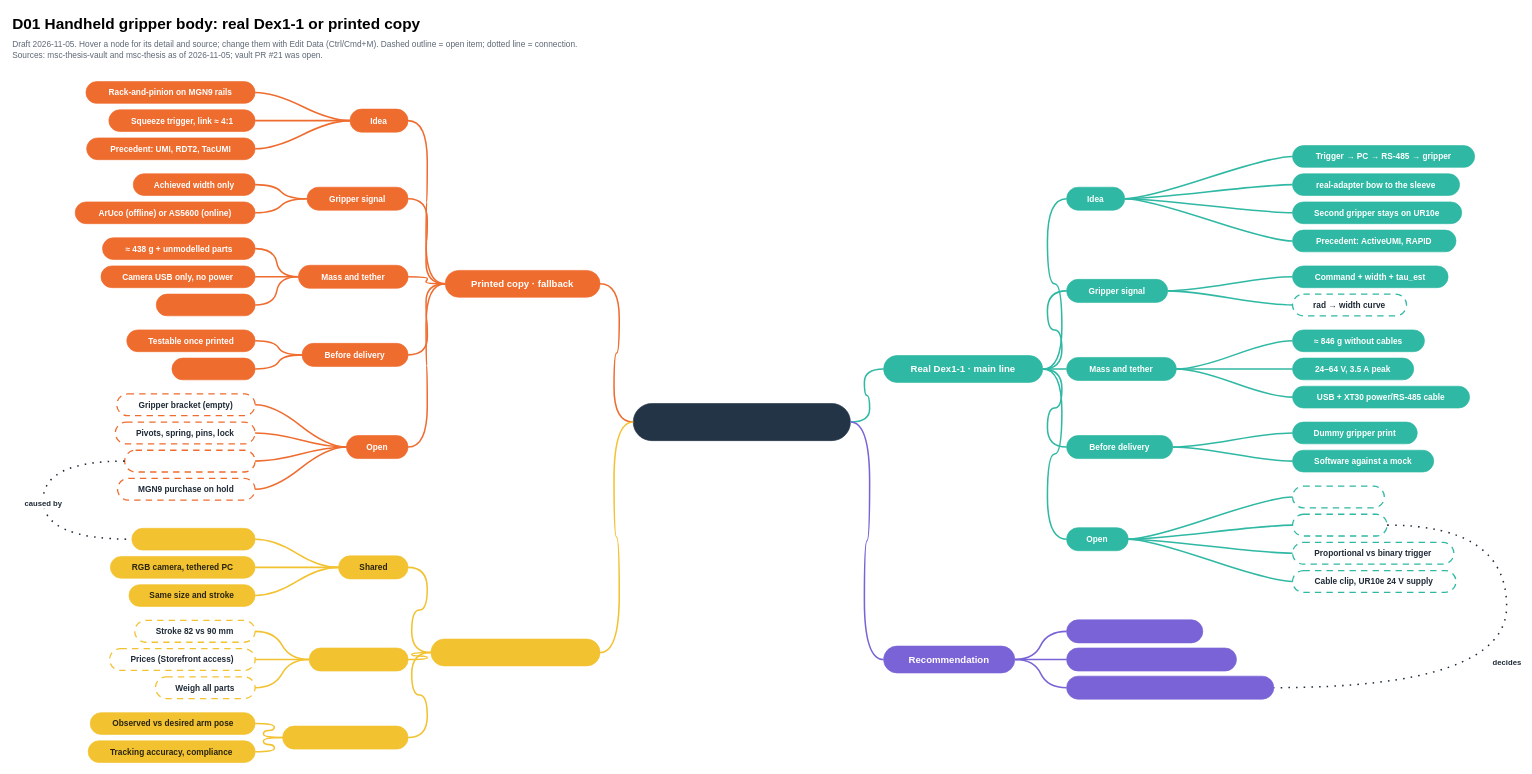
The diagram is 1532 pixels wide and 774 high, and some of its shapes have lost their labels. The centre of each missing label's shape, as x and y in pixels:
"57 mm grip-span limit" belongs at point 189,460.
"CAD frozen" belongs at point 213,368.
"Controller is the grip" belongs at point 193,539.
"D01 Handheld gripper body" belongs at point 741,422.
"Delivery date" belongs at point 1338,496.
"Fallback: printed copy, frozen" belongs at point 1151,659.
"Main line: real Dex1-1" belongs at point 1134,631.
"Not decided by D01" belongs at point 345,737.
"Open for both" belongs at point 358,659.
"Printed fingers" belongs at point 205,304.
"RS-485 check" belongs at point 1339,524.
"Shared and open for both" belongs at point 515,652.
"Switch if delivery slips or RS-485 fails" belongs at point 1170,687.
